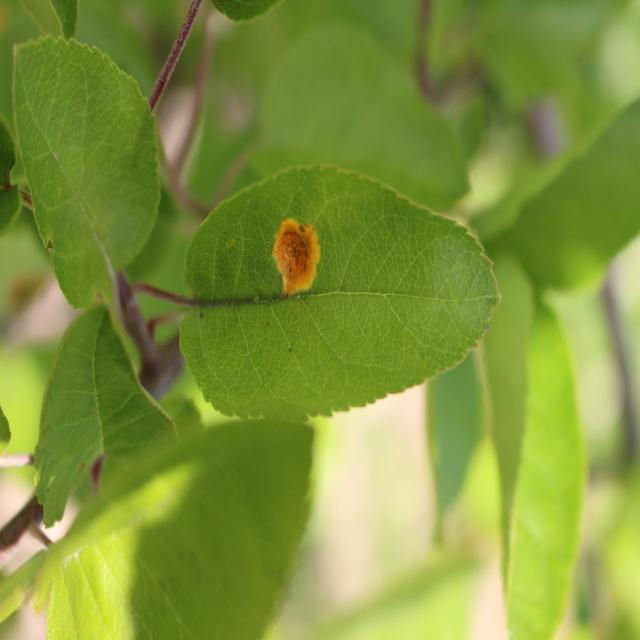Rust: (260, 185, 326, 322)
